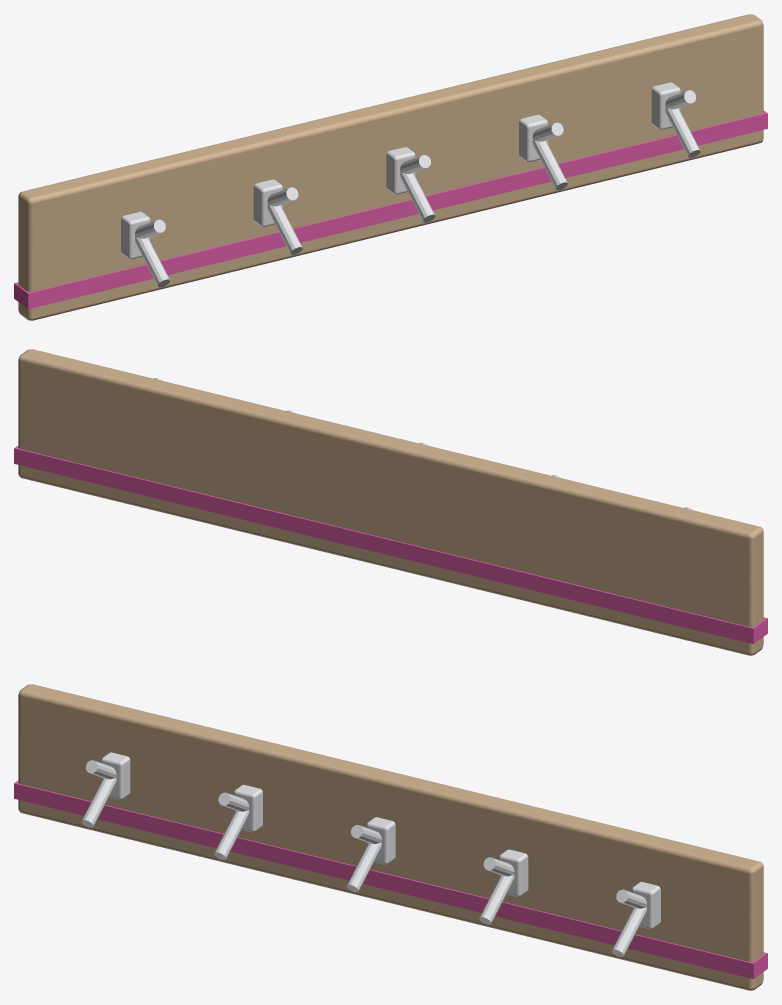
Rendered from tattoo-and-piercing-studio-coat-hook-rail-ca2a14fe__34556.glb.
3 renders of one model, top to bottom at view 1: azimuth 30°, elevation 25°; view 2: azimuth 150°, elevation 25°; view 3: azimuth 330°, elevation 25°, orthographic.
Parts seen in each view (by area): view 1: coat-hook-rail; view 2: coat-hook-rail; view 3: coat-hook-rail.
Part boxes in pixels (<box>): coat-hook-rail: <box>14,14,767,320</box>; coat-hook-rail: <box>14,349,767,655</box>; coat-hook-rail: <box>14,684,767,990</box>.
Size of the model in its own units: 1 by 0.16 by 0.1114.
